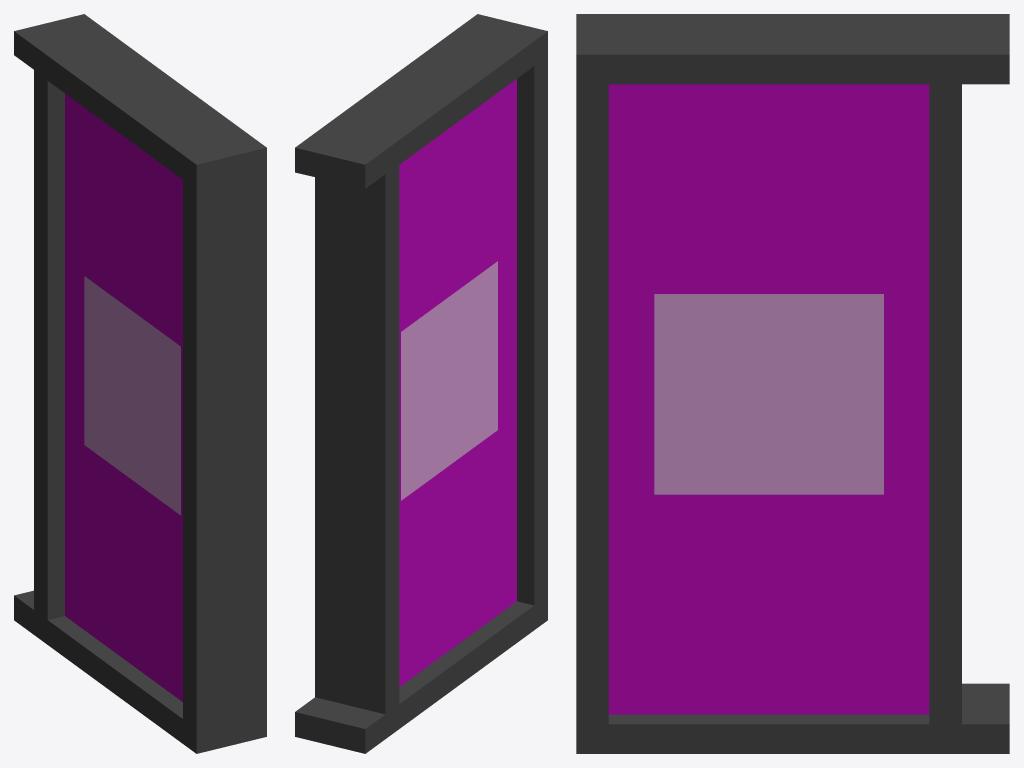
File: neonSignA.fbx
3 renders of one model, left to right at view 1: azimuth 30°, elevation 25°; view 2: azimuth 150°, elevation 25°; view 3: azimuth 270°, elevation 25°, orthographic. The views are drawn at different scales.
Parts seen in each view (by area): view 1: NeonSign; view 2: NeonSign; view 3: NeonSign.
Part boxes in pixels (x1,y1,x2,y2): NeonSign: [14, 14, 266, 753]; NeonSign: [295, 14, 547, 753]; NeonSign: [576, 14, 1009, 753].
Bounding box in the file's own units: 50 × 400 × 225.
